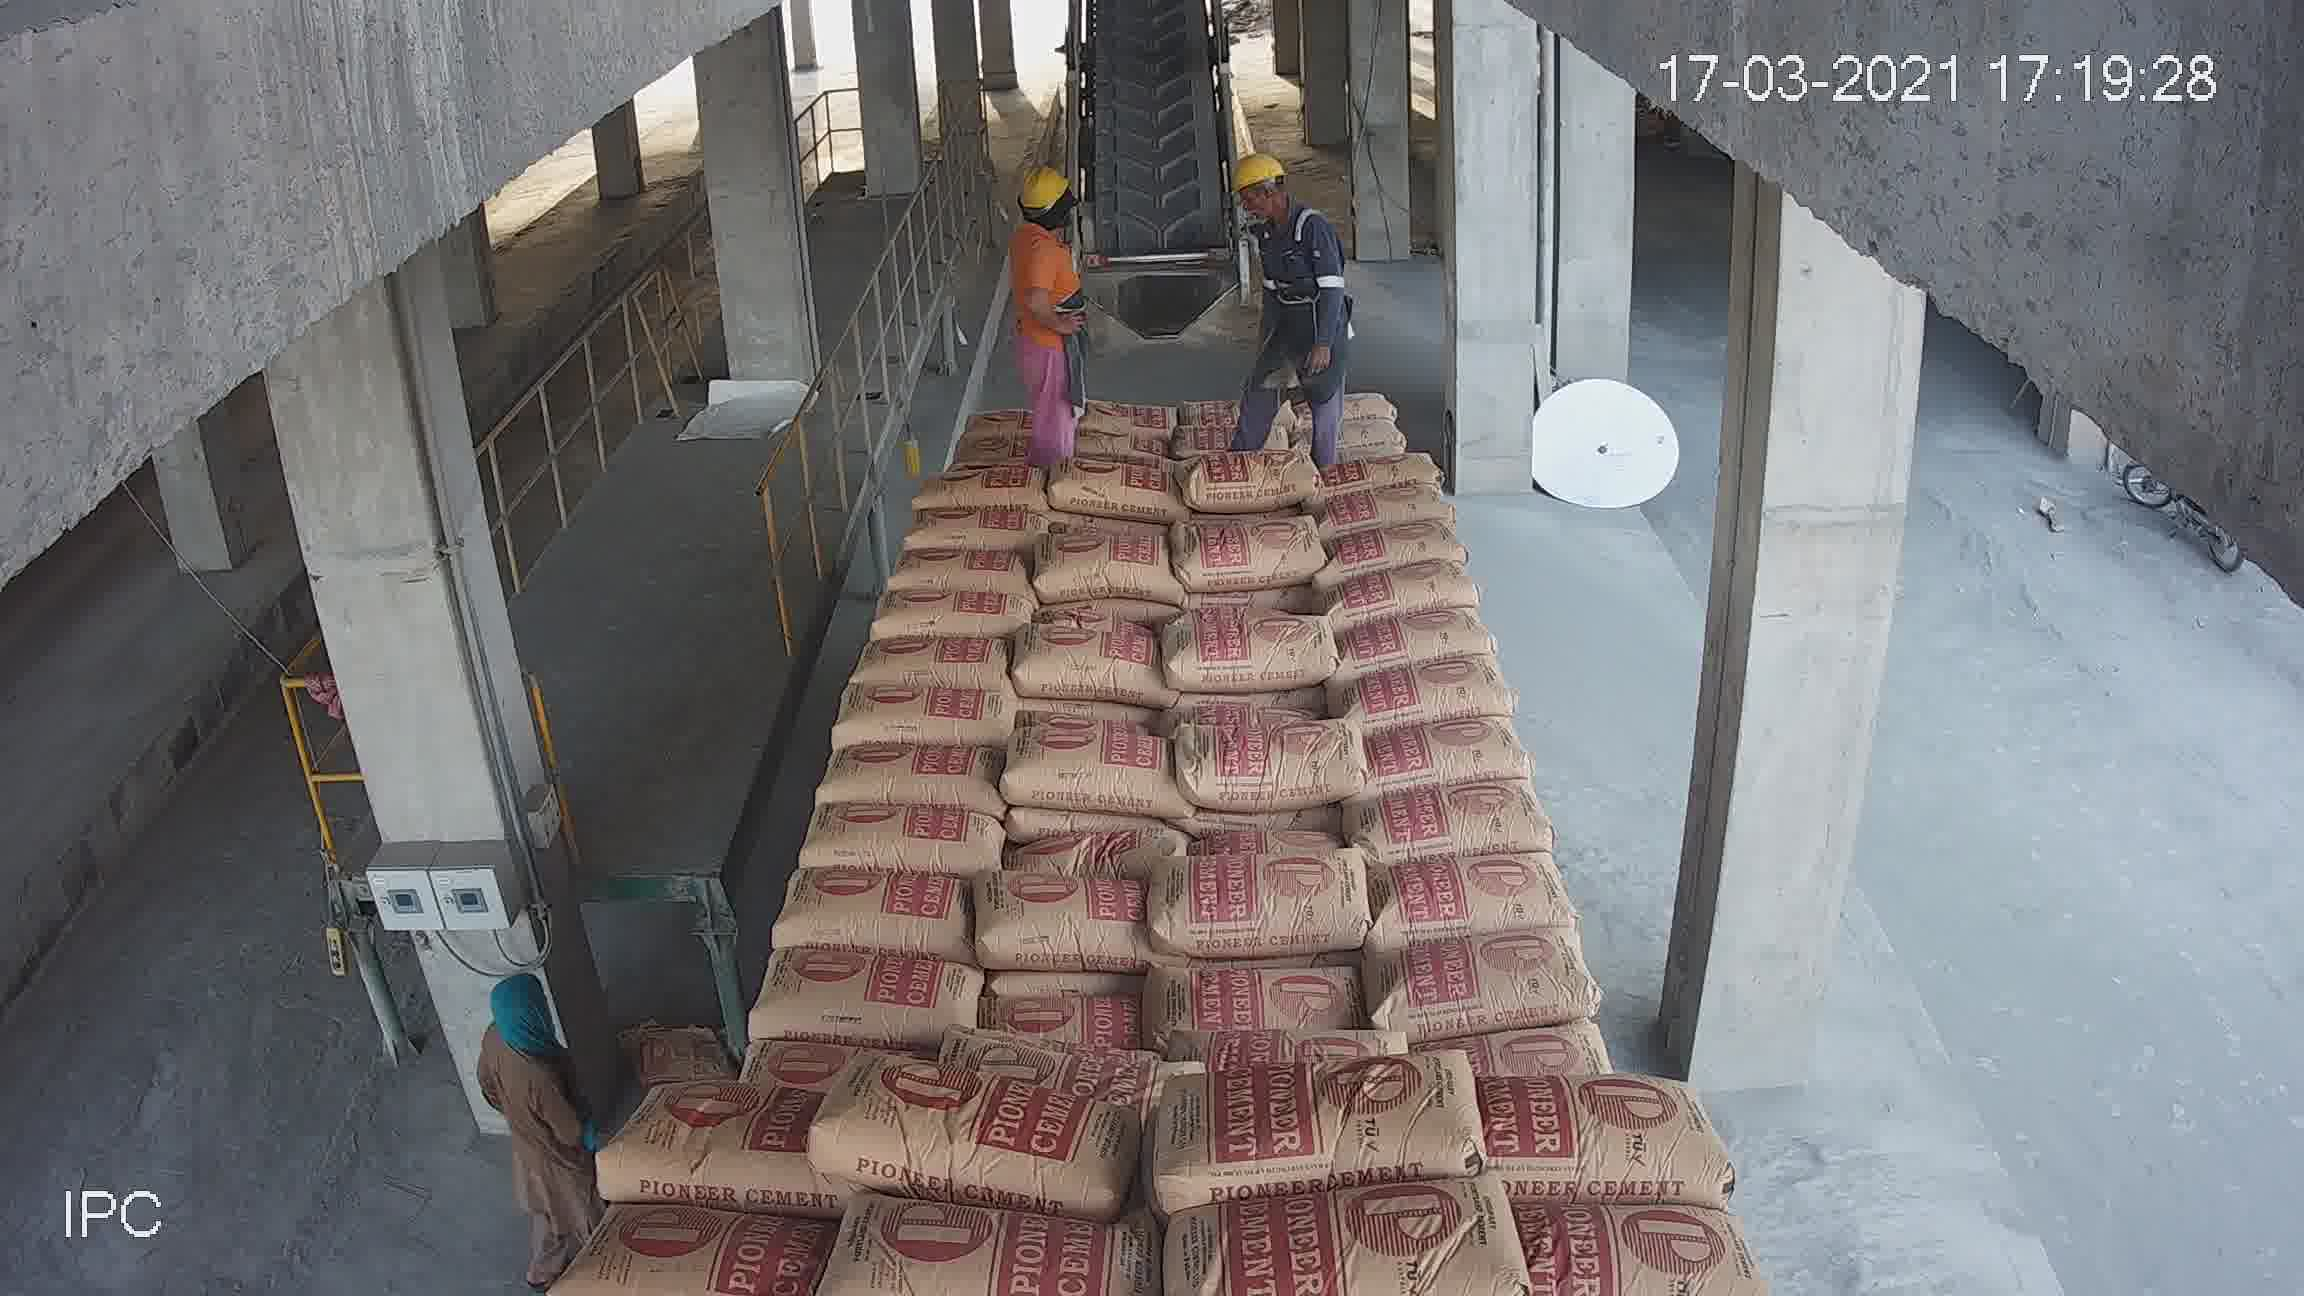bag_h: (1135, 1036, 1483, 1214), (809, 1036, 1158, 1184), (1158, 1168, 1524, 1293), (810, 1174, 1179, 1271), (1446, 1086, 1720, 1188), (589, 1087, 820, 1204), (748, 859, 976, 968), (1386, 919, 1617, 1022), (1478, 1214, 1753, 1296), (945, 870, 1177, 965), (570, 1207, 836, 1290), (1336, 711, 1546, 813), (1165, 855, 1370, 957), (1361, 786, 1567, 885), (1374, 853, 1586, 946), (1331, 649, 1521, 752), (741, 957, 1000, 1032), (1155, 1021, 1429, 1086), (1161, 593, 1348, 680), (785, 809, 1014, 878), (991, 720, 1180, 802), (1152, 513, 1348, 592), (1321, 601, 1510, 680), (815, 671, 1022, 741), (780, 742, 1010, 804), (1192, 726, 1359, 809), (994, 623, 1161, 703), (1032, 801, 1198, 880), (1179, 434, 1323, 521), (946, 1014, 1169, 1068), (888, 487, 1041, 562), (897, 456, 1051, 529), (1307, 552, 1487, 614), (1168, 962, 1367, 1017), (1321, 513, 1465, 585), (843, 628, 1022, 687), (995, 968, 1146, 1038), (851, 581, 1033, 638), (1446, 1013, 1625, 1070), (1036, 529, 1165, 604), (1035, 460, 1184, 521), (1290, 449, 1445, 500), (896, 555, 1040, 600), (1063, 400, 1198, 445), (1329, 483, 1476, 522), (934, 419, 1032, 468), (961, 400, 1041, 437)
belt: (1063, 22, 1244, 294)
